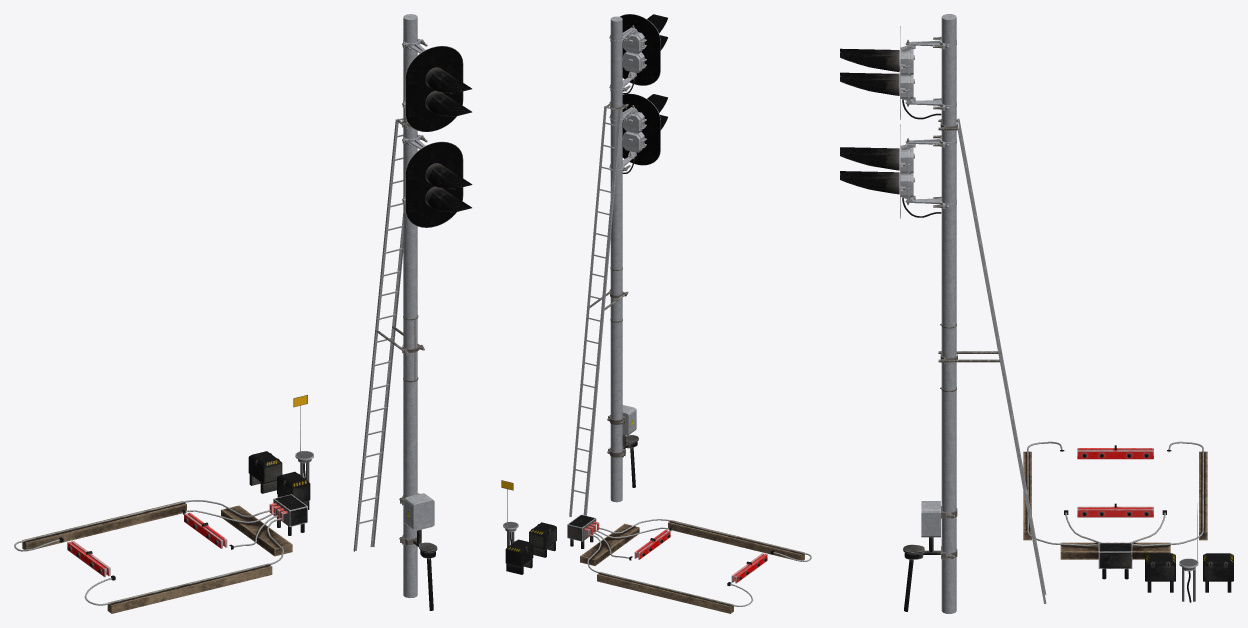
File: RM_sig_P_MM2_YG+RW_2+2_exit.gltf
The picture shows the model from 3 angles, left to right: view 1: azimuth 30°, elevation 25°; view 2: azimuth 150°, elevation 25°; view 3: azimuth 270°, elevation 25°; orthographic projection. The views are drawn at different scales.
Parts seen in each view (by area): view 1: Светофор 2+2, Изостык; view 2: Светофор 2+2, Изостык; view 3: Светофор 2+2, Изостык.
Boxes of the visible parts, x1,y1,x2,y2 form: Светофор 2+2: (353, 14, 472, 610); Изостык: (14, 395, 313, 613); Светофор 2+2: (569, 14, 668, 516); Изостык: (501, 480, 811, 613); Светофор 2+2: (840, 14, 1046, 613); Изостык: (1023, 441, 1233, 602).
Bounding box in the file's own units: 4.2 × 7.57 × 4.55.
Materials: 3 (2 with a texture image).
